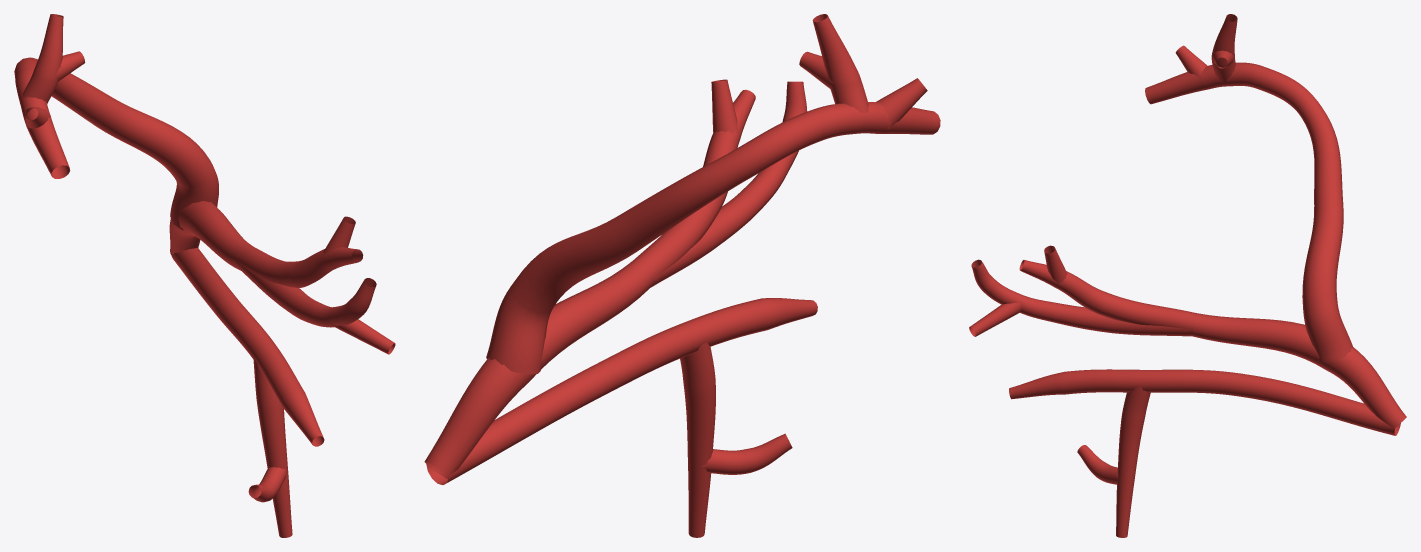
The picture shows the model from 3 angles, left to right: view 1: azimuth 30°, elevation 25°; view 2: azimuth 150°, elevation 25°; view 3: azimuth 270°, elevation 25°; orthographic projection. The views are drawn at different scales.
Parts seen in each view (by area): view 1: 右肺尖段动脉; view 2: 右肺尖段动脉; view 3: 右肺尖段动脉.
Boxes of the visible parts, <box> form: 右肺尖段动脉: <box>14,14,395,537</box>; 右肺尖段动脉: <box>424,14,940,537</box>; 右肺尖段动脉: <box>969,14,1406,537</box>.
Bounding box in the file's own units: 0.0743 × 0.1252 × 0.1104.
